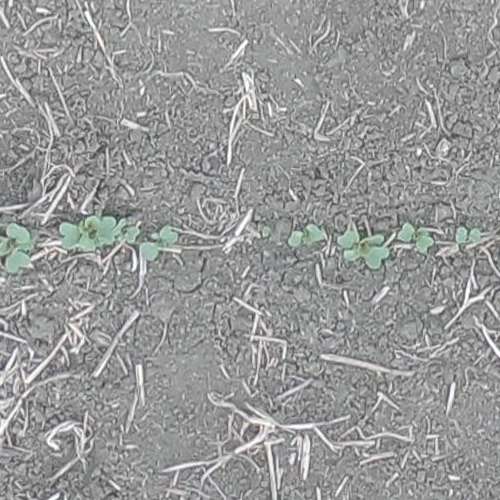clumped: (0, 212, 35, 273)
isolated: (334, 226, 388, 269), (55, 217, 115, 251), (136, 222, 180, 262), (396, 222, 435, 254), (288, 223, 326, 252), (453, 224, 484, 246), (498, 221, 499, 258)
